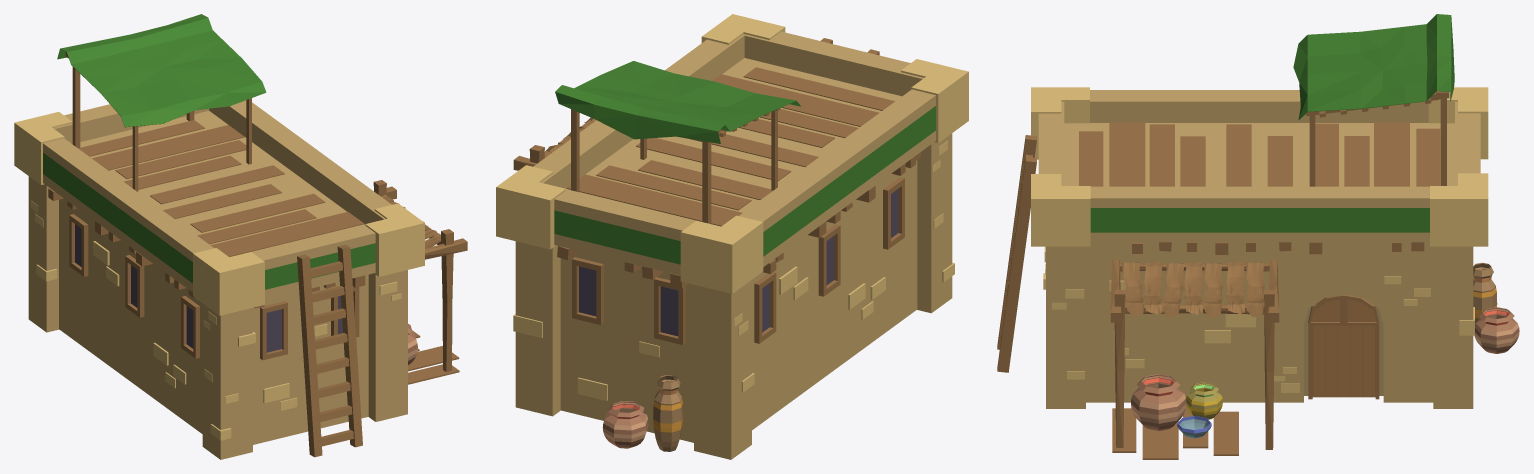
Rendered from SL_House2.fbx.
The picture shows the model from 3 angles, left to right: view 1: azimuth 30°, elevation 25°; view 2: azimuth 150°, elevation 25°; view 3: azimuth 270°, elevation 25°; orthographic projection. The views are drawn at different scales.
Visible parts, largest first — view 1: SL_House2; view 2: SL_House2; view 3: SL_House2.
Boxes of the visible parts, x1=… form: SL_House2: x1=14, y1=14, x2=467, y2=459; SL_House2: x1=496, y1=14, x2=968, y2=459; SL_House2: x1=997, y1=14, x2=1519, y2=459.
Size of the model in its own units: 1181 by 1068 by 1657.
